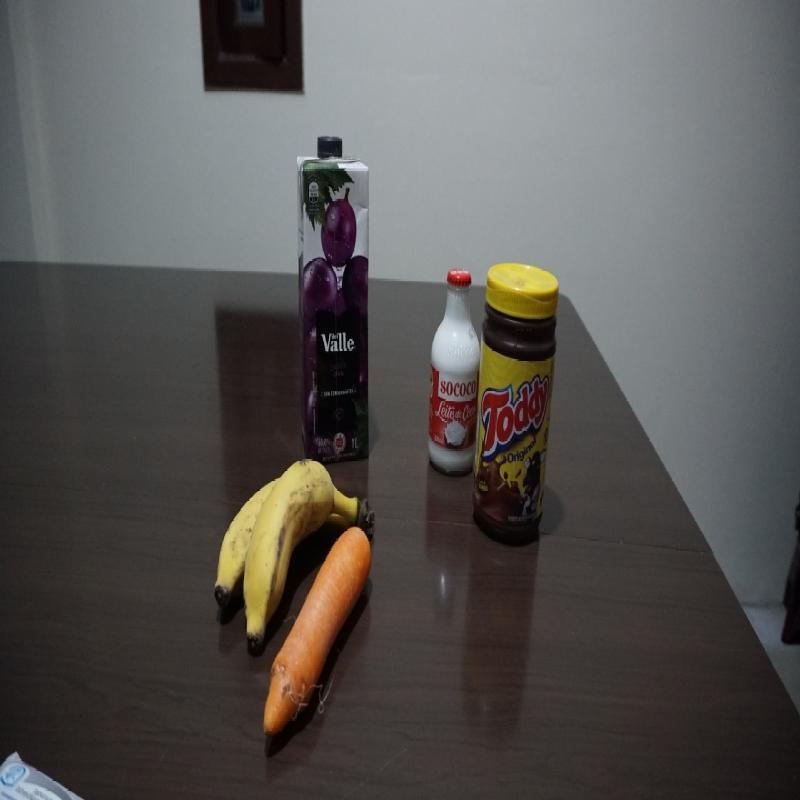Banana: (199, 442, 370, 531)
Carrot: (272, 534, 373, 724)
Chocolate Powder: (477, 257, 558, 540)
Coconut Milk: (423, 258, 478, 476)
